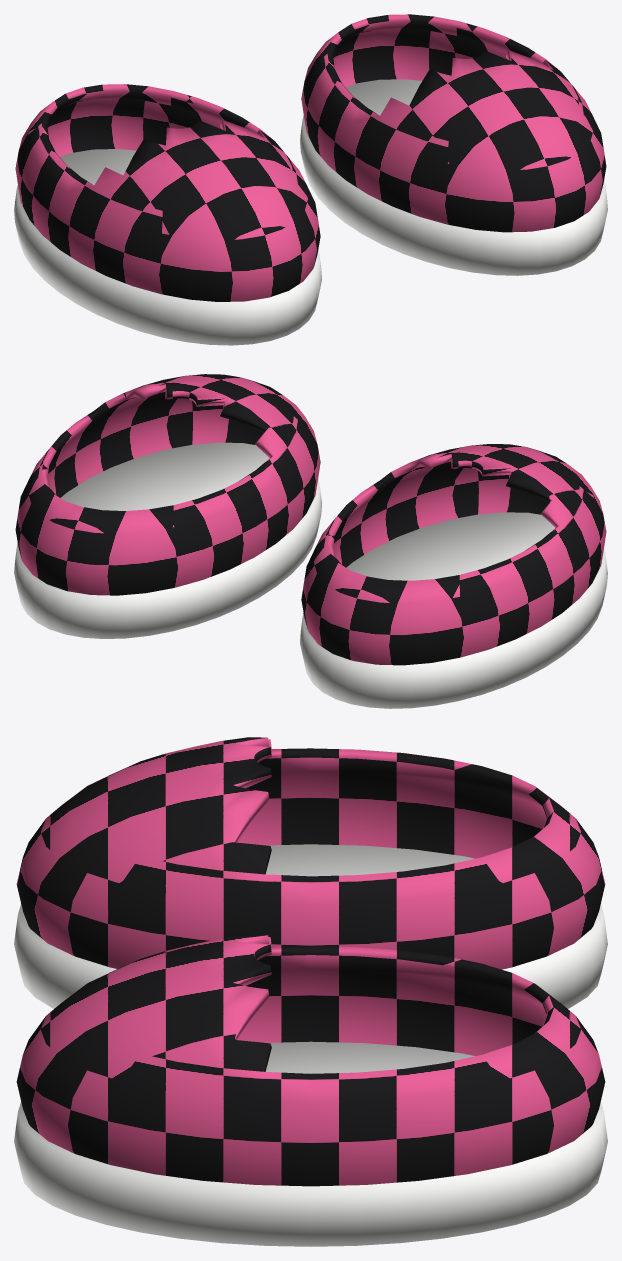
The model's file is slipons2.fbx.
3 views of the same model, one above another, from view 1: azimuth 30°, elevation 25°; view 2: azimuth 150°, elevation 25°; view 3: azimuth 270°, elevation 25° (orthographic). The views are drawn at different scales.
Parts seen in each view (by area): view 1: slipons2; view 2: slipons2; view 3: slipons2.
Boxes of the visible parts, bbox=[...] form: slipons2: bbox=[14, 14, 607, 345]; slipons2: bbox=[14, 374, 607, 708]; slipons2: bbox=[14, 737, 607, 1246].
Size of the model in its own units: 0.634 by 0.181 by 0.45.
Materials: 2 (1 with a texture image).
